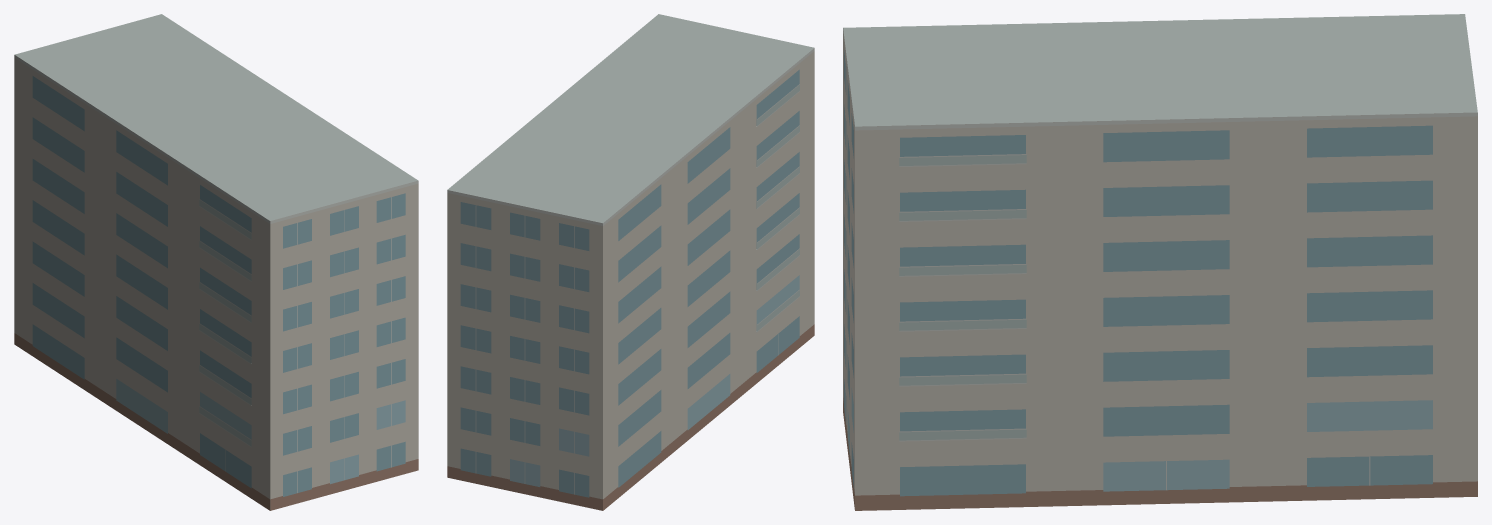
Rendered from survey-upis-32938639.glb.
3 views of the same model, side by side, from view 1: azimuth 30°, elevation 25°; view 2: azimuth 150°, elevation 25°; view 3: azimuth 270°, elevation 25° (orthographic). The views are drawn at different scales.
Visible parts, largest first — view 1: survey-upis-32938639.tmp; view 2: survey-upis-32938639.tmp; view 3: survey-upis-32938639.tmp.
Part boxes in pixels (x1=…): survey-upis-32938639.tmp: x1=14, y1=14, x2=418, y2=510; survey-upis-32938639.tmp: x1=447, y1=14, x2=814, y2=510; survey-upis-32938639.tmp: x1=843, y1=14, x2=1477, y2=510.
Bounding box in the file's own units: 14.94 × 23.75 × 35.56.
